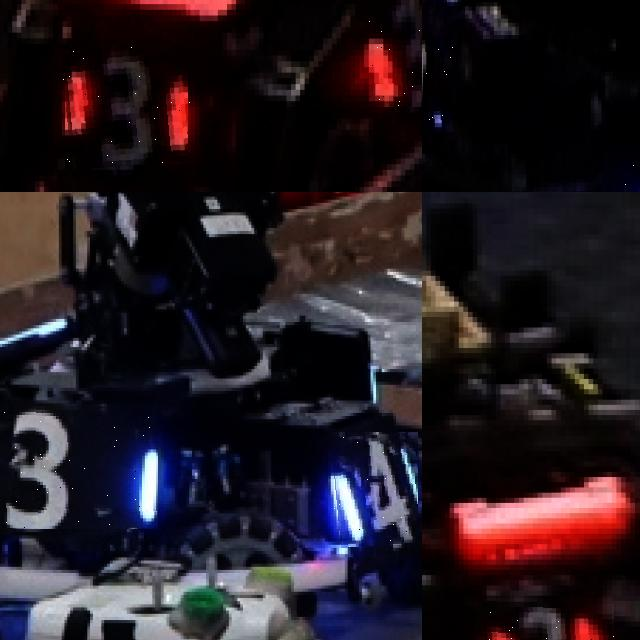B1: (422, 16, 456, 131)
B3: (0, 403, 158, 529)
B4: (331, 432, 418, 548)
R2: (475, 598, 614, 640)
R3: (62, 44, 190, 170), (368, 0, 422, 106)
